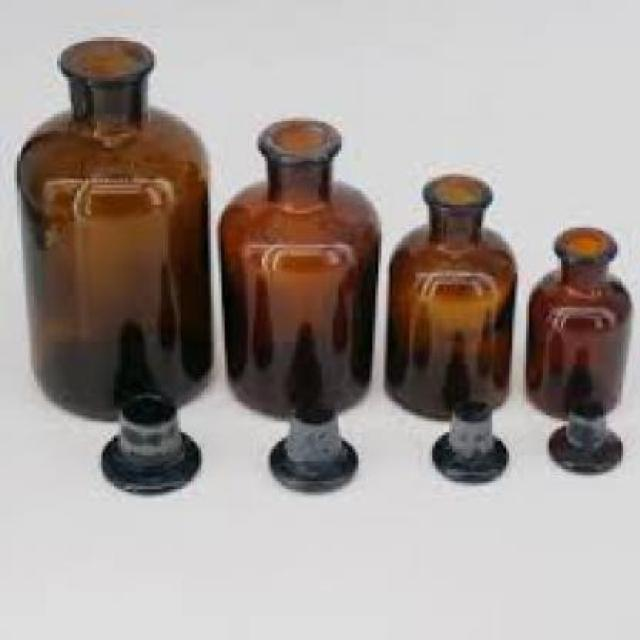kaca: (11, 31, 211, 412), (217, 117, 375, 415), (386, 174, 512, 418), (523, 225, 626, 412), (100, 386, 198, 496), (268, 398, 355, 492), (429, 398, 503, 480), (546, 396, 617, 472)
